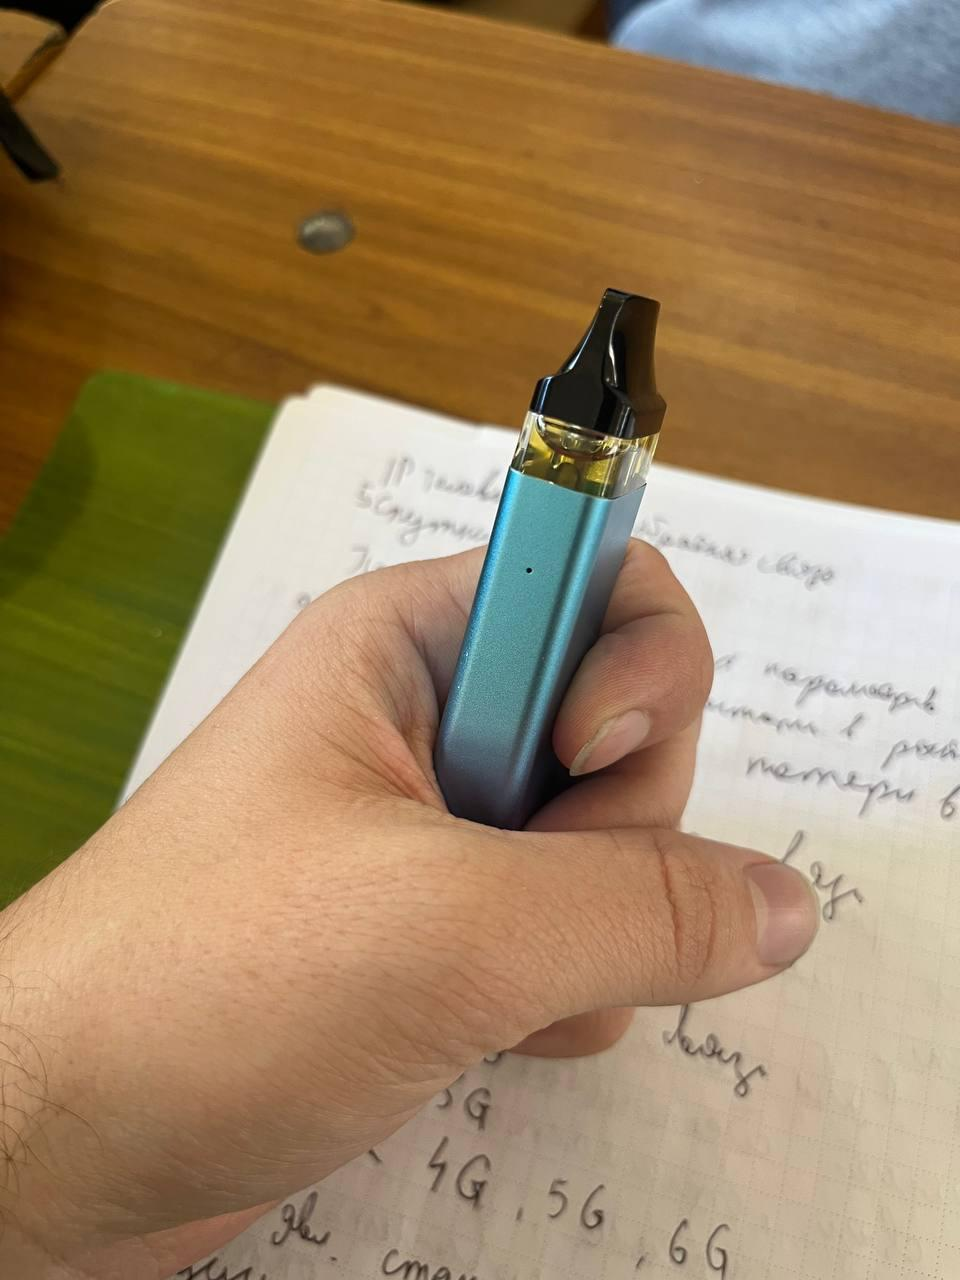Vape: (433, 290, 665, 828)
